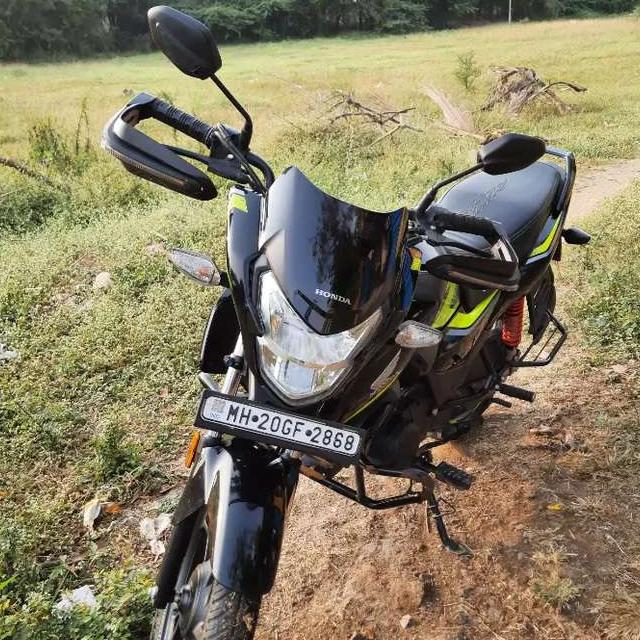Indian_Number_Plate: (196, 392, 367, 461)
